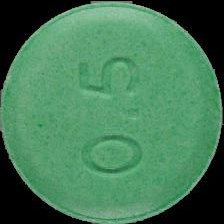42291-178: (0, 0, 224, 224)
